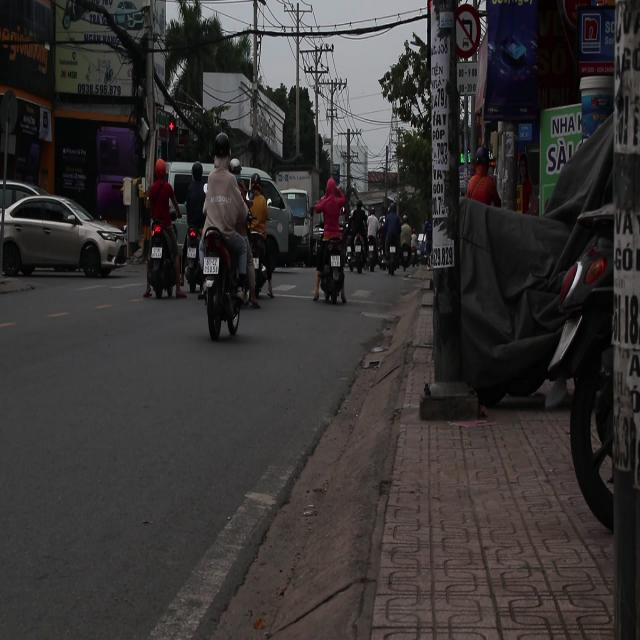car: (1, 193, 128, 279), (238, 171, 312, 268), (0, 178, 47, 242), (278, 188, 313, 264)
motorbike: (194, 225, 248, 342), (142, 219, 180, 303), (314, 232, 354, 309), (181, 224, 205, 296)
